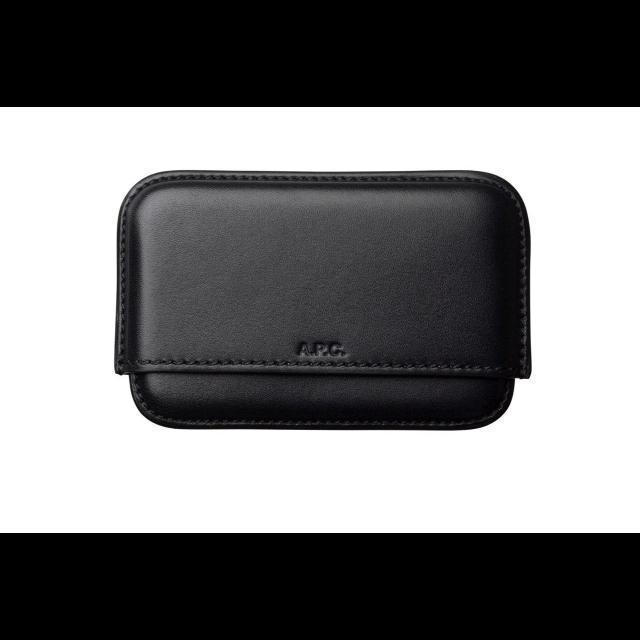wallet: (110, 164, 534, 433)
